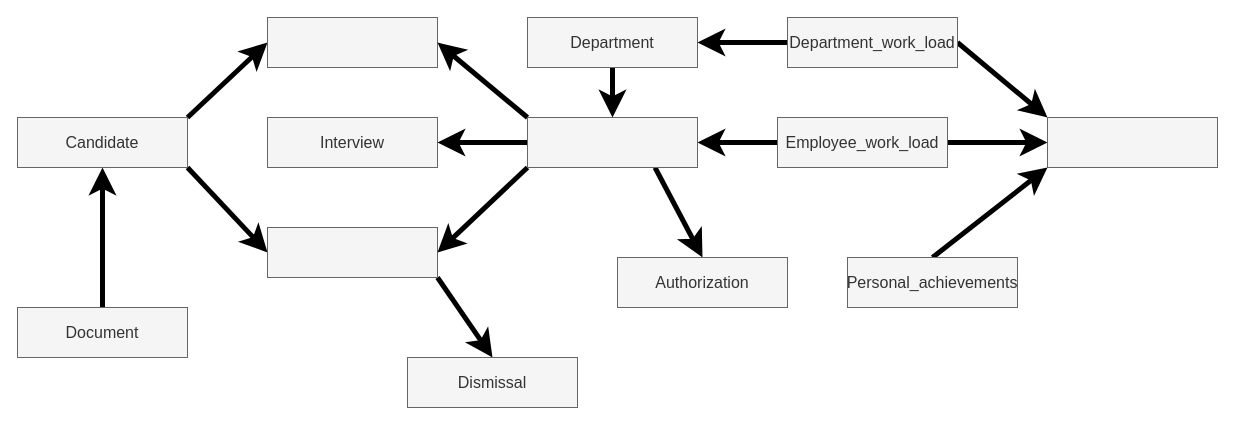
The diagram is 1235 pixels wide and 425 high, and some of its shapes have lost their labels. The shapes that lost their labels are listed below. From the top down, each one's box as (x1, y1, x2, y2) in pixels, then its label:
(266, 16, 438, 68): Contact_data
(526, 116, 698, 168): Employee
(1046, 116, 1218, 168): Period
(266, 226, 438, 278): Passport_info
